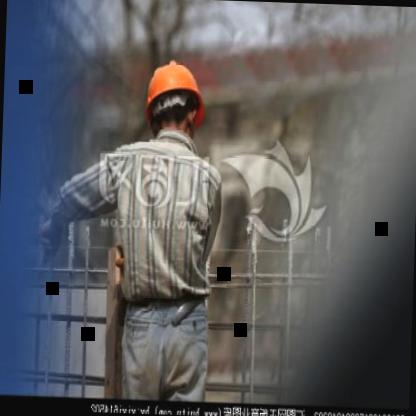helmet: (138, 51, 213, 155)
